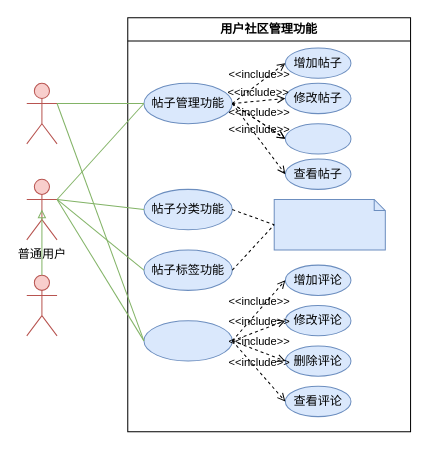
Some shapes in this 428 by 449 pixel diagram are drawn without their labels. The shapes that lost their labels are listed below. From the top down, each one's centre as x and y in pixels, then its label:
At point (41, 113): "管理员".
At point (317, 138): "删除帖子".
At point (329, 224): "参考博客归档功能，按照分类及标签区分".
At point (41, 305): "商家".
At point (187, 340): "评论管理功能".
